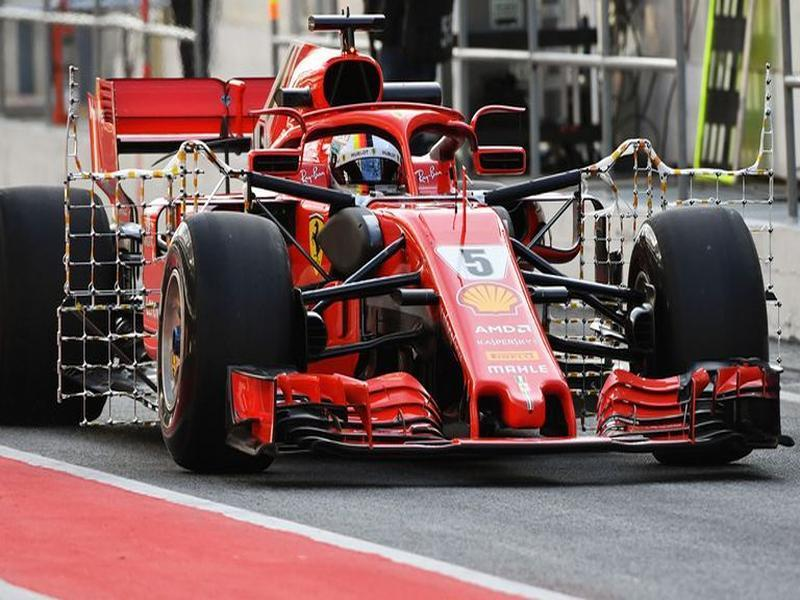f1: (59, 63, 785, 486)
